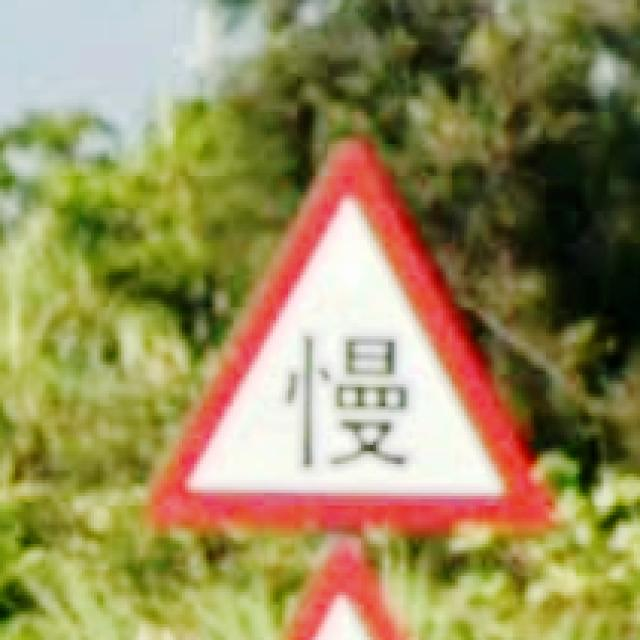slow: (140, 131, 564, 541)
